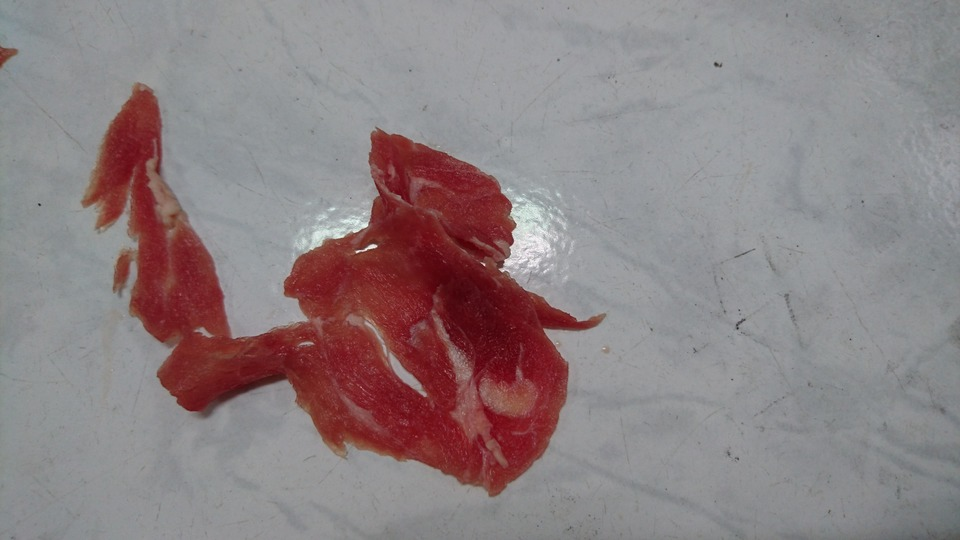restructured meat: (93, 120, 622, 517)
